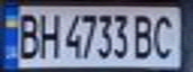3: (112, 11, 133, 60), (96, 11, 115, 60)
4: (60, 10, 84, 58)
7: (78, 10, 96, 60)
B: (12, 9, 42, 60), (130, 11, 157, 61)
C: (151, 10, 181, 61)
H: (36, 9, 60, 60)
